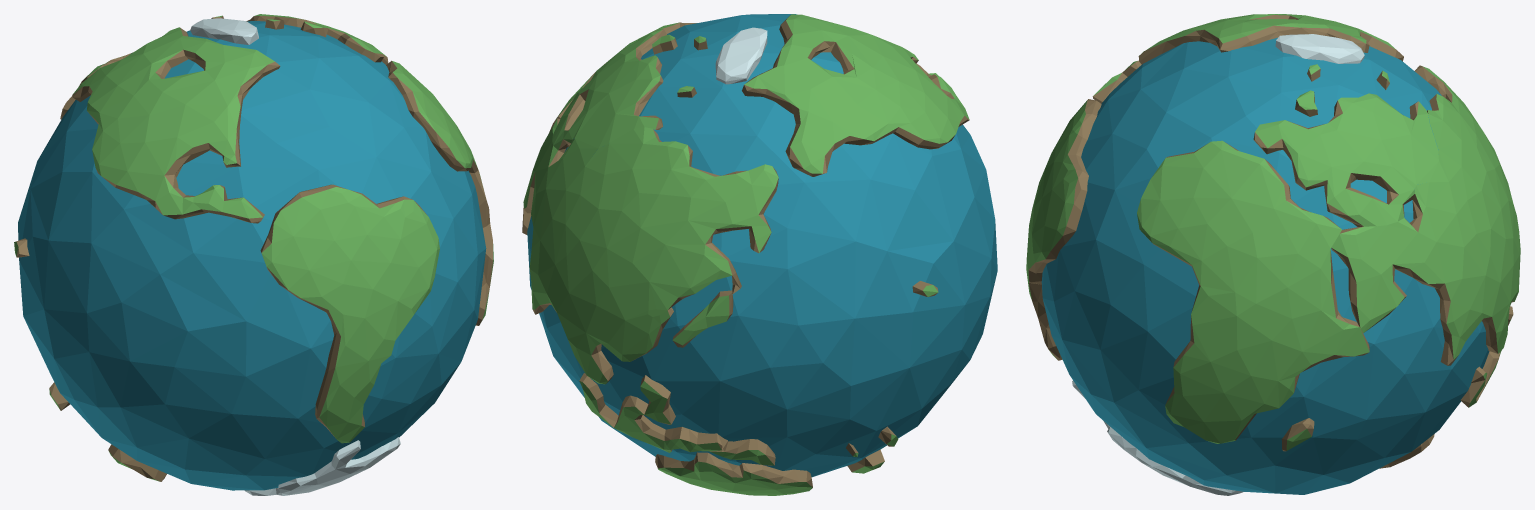
File: planet.glb
The picture shows the model from 3 angles, left to right: view 1: azimuth 30°, elevation 25°; view 2: azimuth 150°, elevation 25°; view 3: azimuth 270°, elevation 25°; orthographic projection.
Parts seen in each view (by area): view 1: PlanetMesh; view 2: PlanetMesh; view 3: PlanetMesh.
Part boxes in pixels (x1,y1,x2,y2): PlanetMesh: (14,14,493,495); PlanetMesh: (522,14,997,495); PlanetMesh: (1026,14,1520,495).
Size of what is drawn, in the model's own units: 7.07 by 7.12 by 7.25.
1 material, 1 textured.
